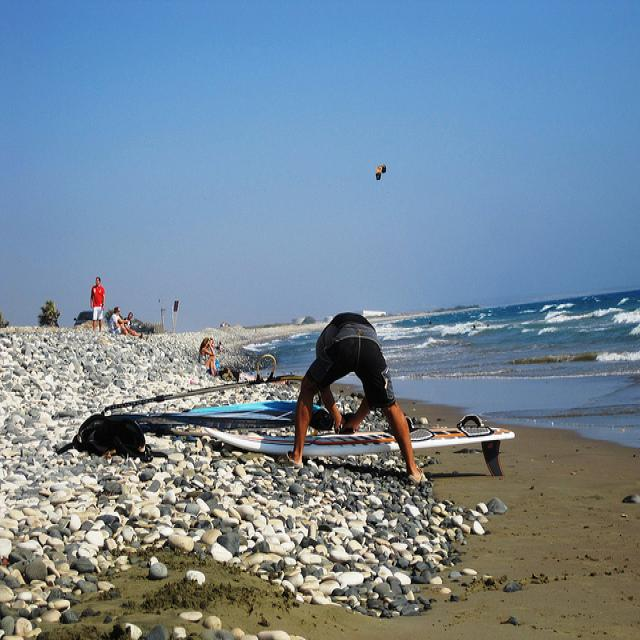Vehicle: (74, 310, 94, 328)
